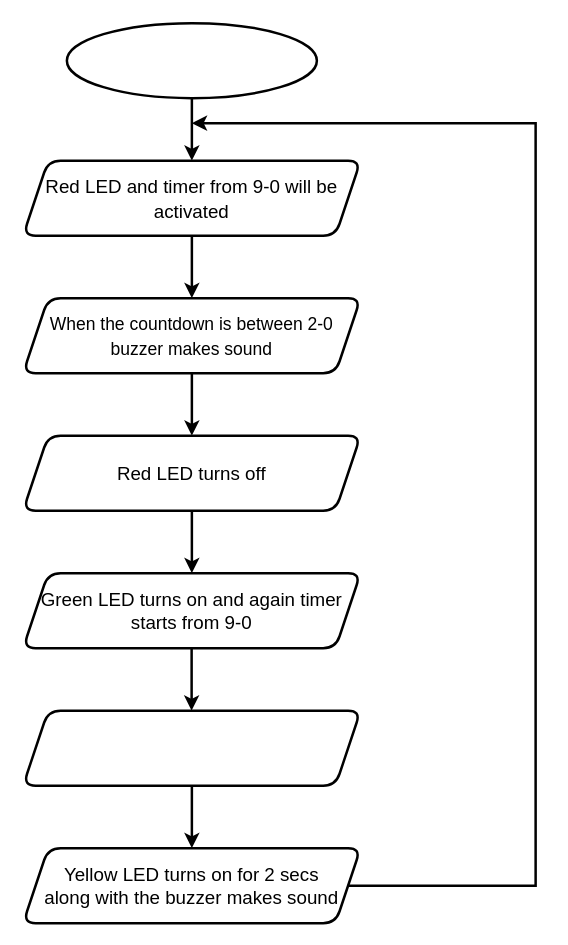
Image size: 568x945. Some labels were removed from this diagram. Each missing label, with the centre of its shape:
"Green LED turns off" goes at (x=191, y=747).
"Start" goes at (x=191, y=60).
